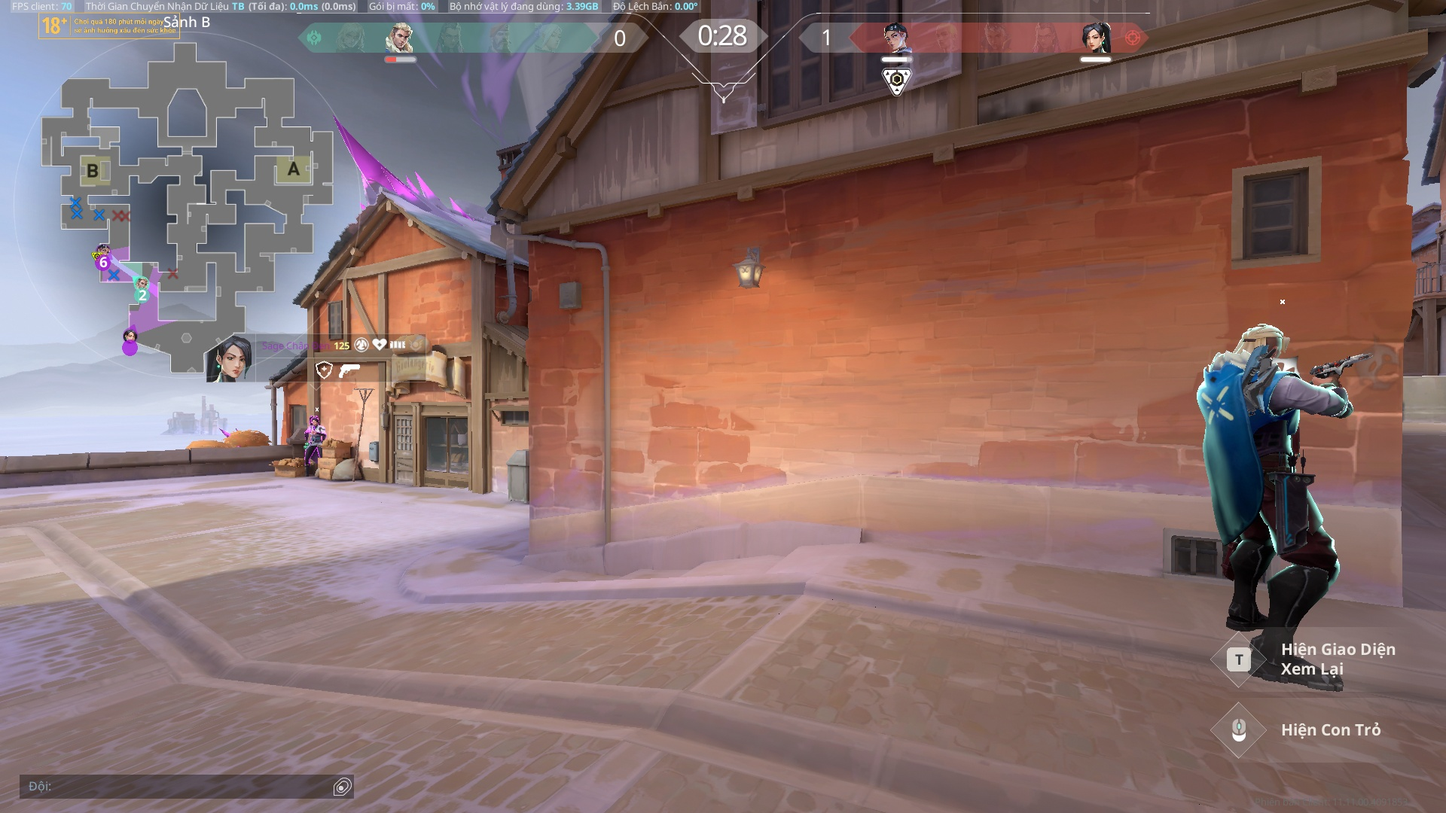body: (307, 423, 325, 440)
head: (312, 416, 322, 425)
